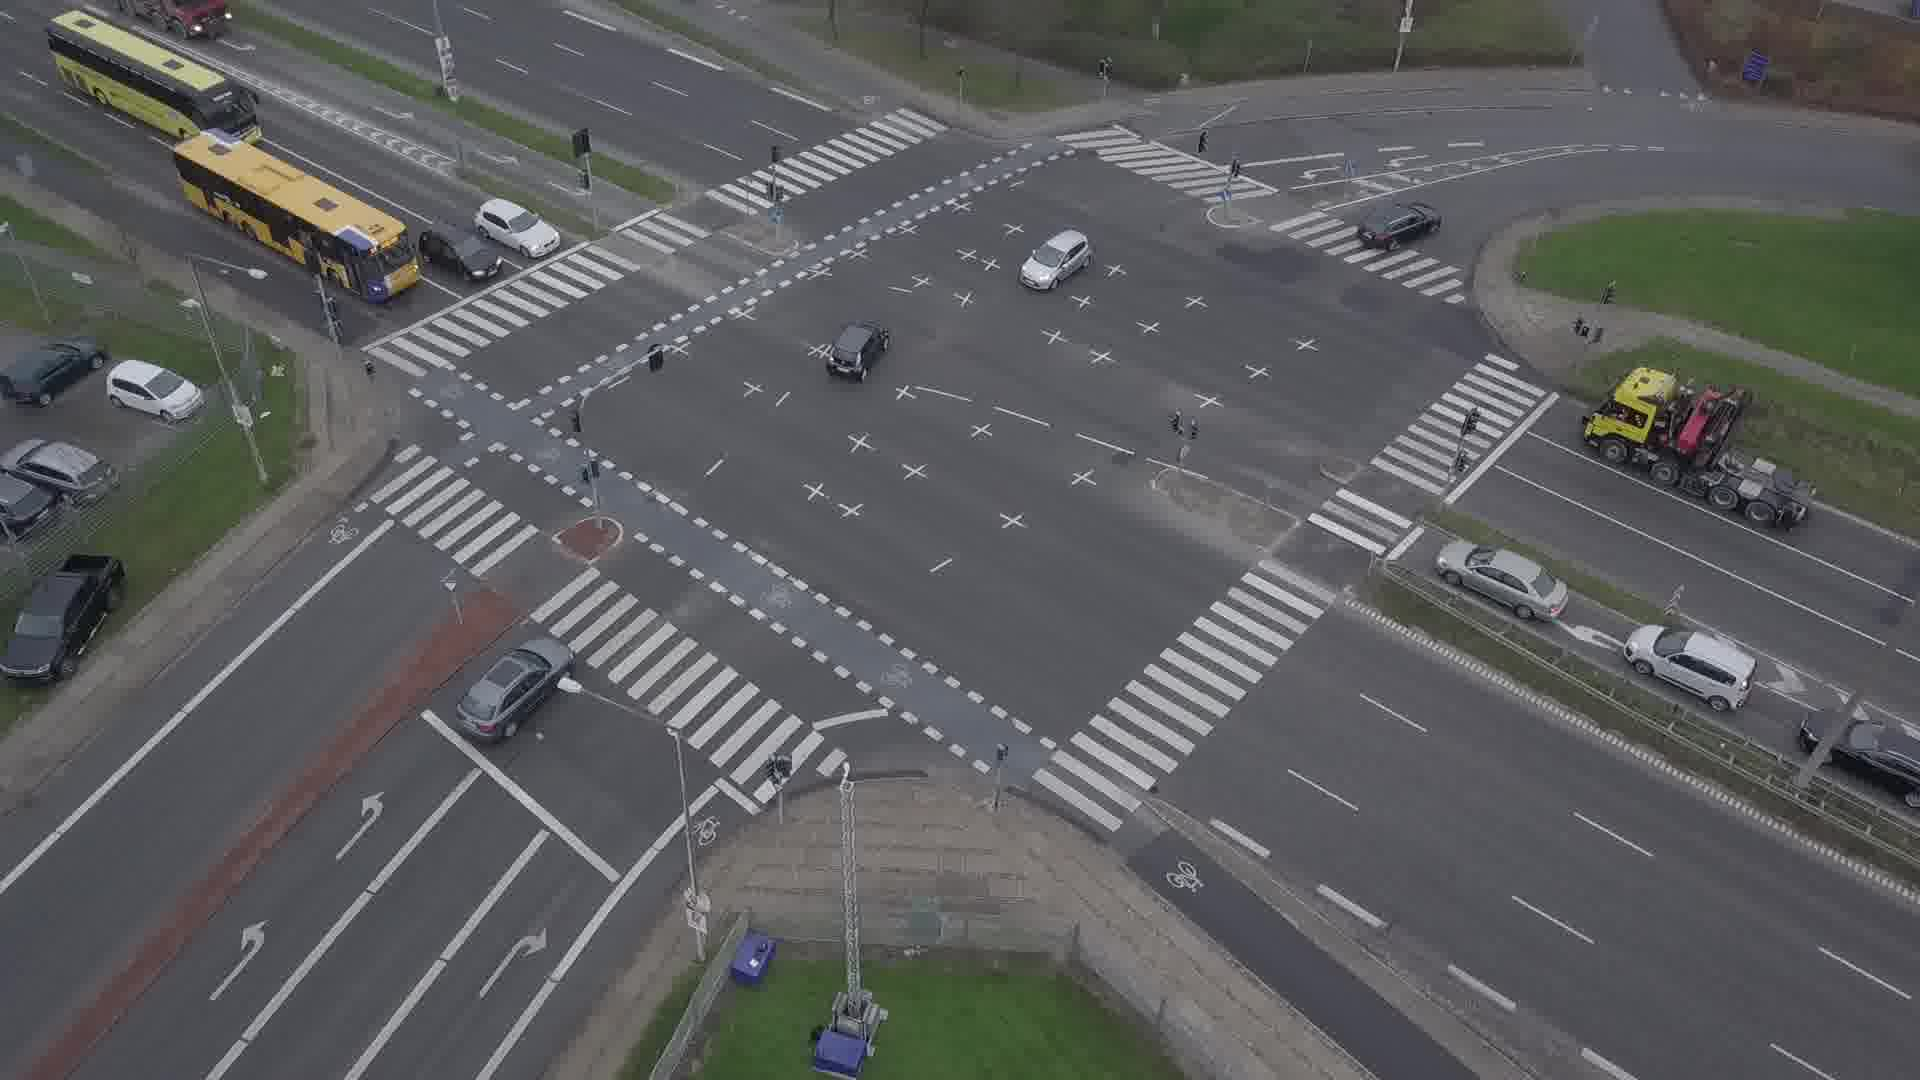bicycle: (319, 295, 346, 334)
bus: (172, 127, 422, 302), (47, 10, 263, 147)
car: (454, 638, 576, 742), (1798, 710, 1920, 811), (1623, 625, 1759, 713), (1433, 540, 1570, 622), (474, 198, 560, 258), (419, 223, 504, 283), (1019, 230, 1091, 290), (1356, 203, 1443, 251), (827, 320, 891, 384)
lorry: (1580, 367, 1818, 528), (110, 0, 233, 41)
